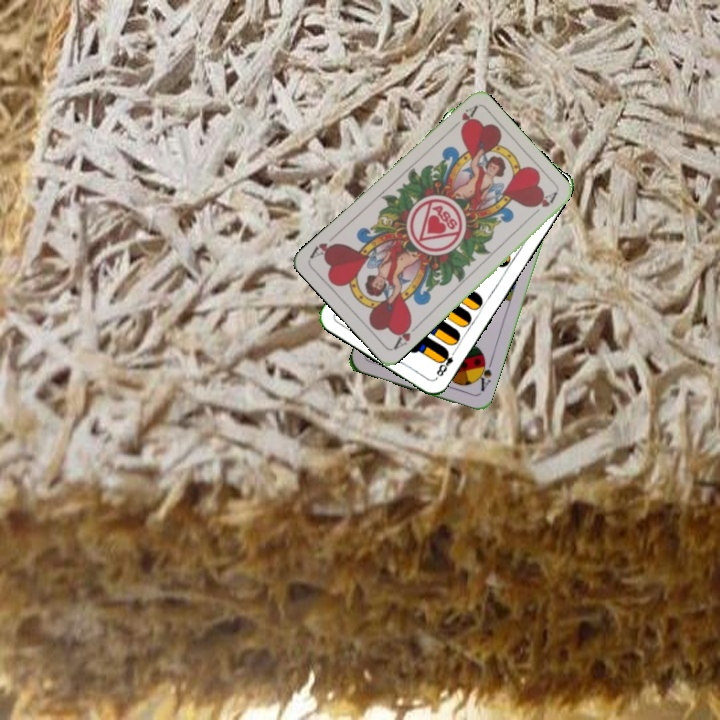E8: (432, 345, 459, 381)
HA: (389, 318, 422, 352), (445, 102, 479, 134)
SA: (473, 354, 495, 394)
